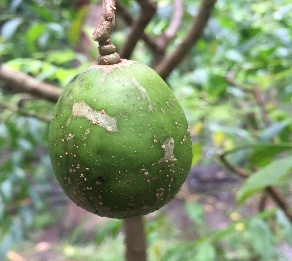Coc: (47, 60, 194, 219)
